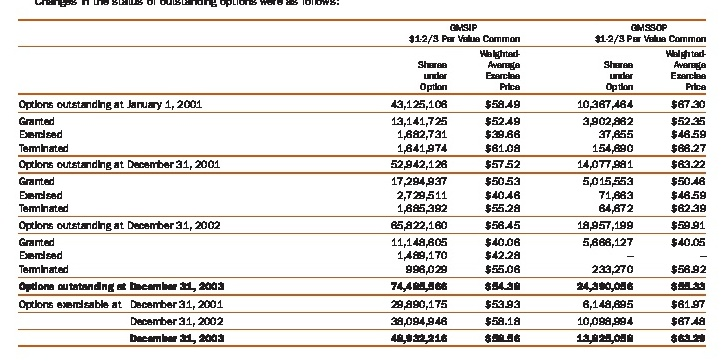table: (0, 0, 723, 361)
